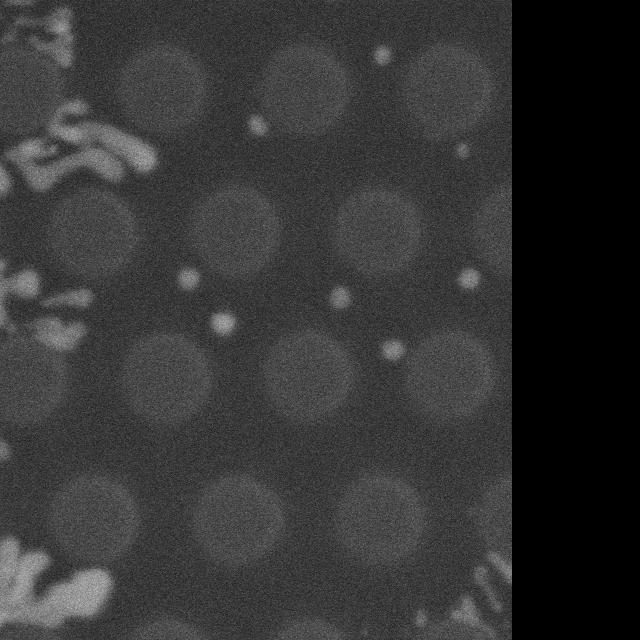Dendrite: (0, 538, 111, 640), (49, 100, 157, 173), (8, 142, 126, 191), (451, 554, 511, 634), (1, 7, 73, 68), (0, 257, 37, 332), (32, 315, 85, 352), (43, 287, 93, 308), (210, 311, 236, 337), (177, 266, 200, 291), (457, 267, 482, 290), (380, 338, 405, 360), (329, 285, 351, 308), (247, 114, 268, 137), (372, 44, 392, 66), (455, 142, 470, 158), (2, 0, 36, 7)
